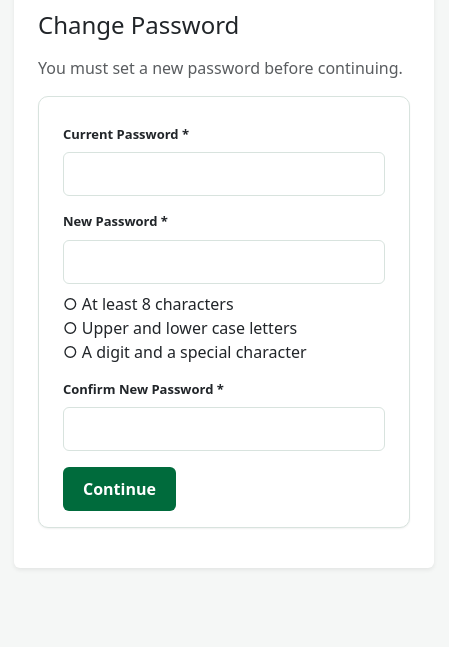
Scenario: ChangePassword › submits successfully and the field-level 422 on a wrong current password is shown
The width and height of the screenshot is (449, 647).
Type "WrongOne123!" into the password field labelled "Current Password *" at (224, 174), box x1=63 y1=152 x2=385 y2=196
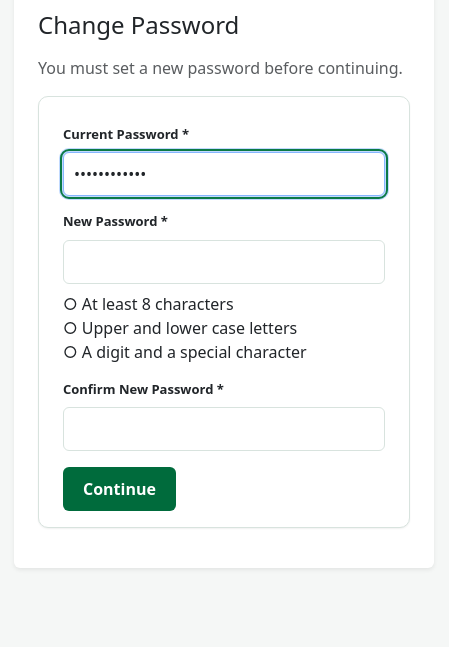
Type "NewOnboard456!" into the password field labelled "New Password *" at (224, 262), box x1=63 y1=240 x2=385 y2=284
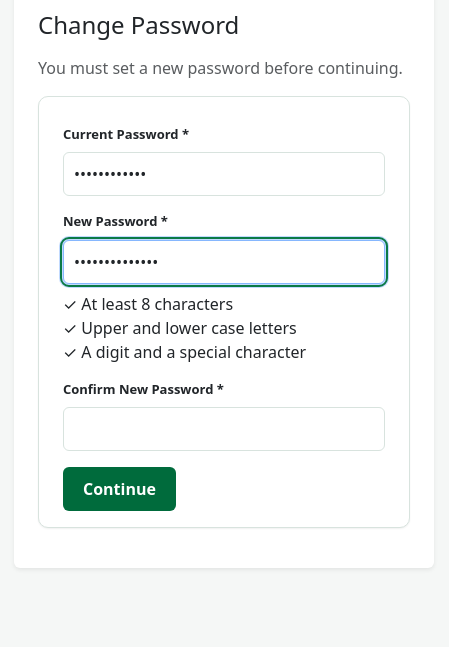
Type "NewOnboard456!" into the password field labelled "Confirm New Password *" at (224, 429), box x1=63 y1=407 x2=385 y2=451
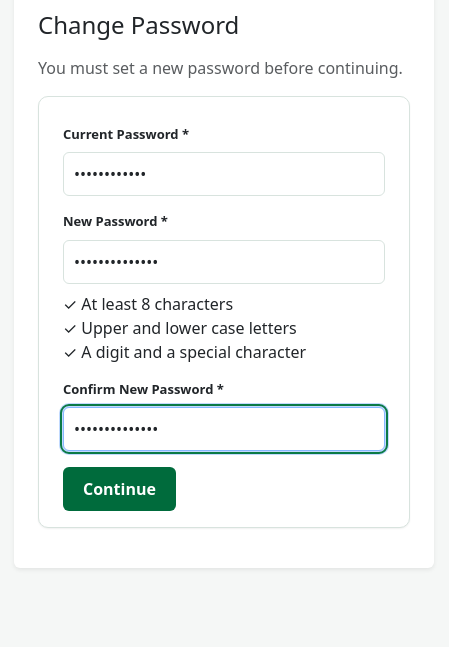
Click the button "Continue" at (119, 489), box x1=63 y1=467 x2=176 y2=511
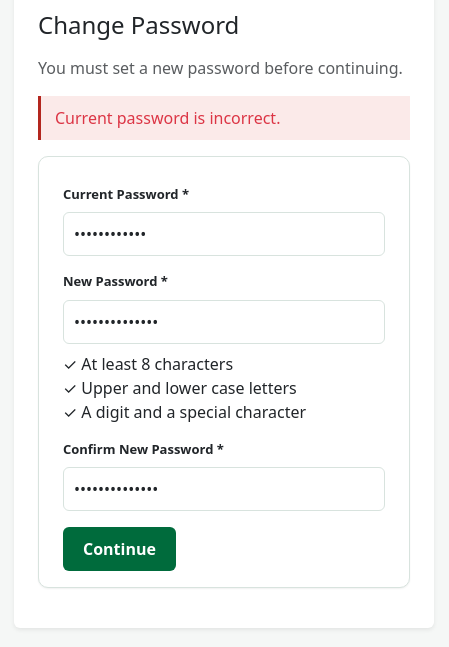
Check: the text "Current password is incorrect." is shown, box x1=38 y1=96 x2=410 y2=140
